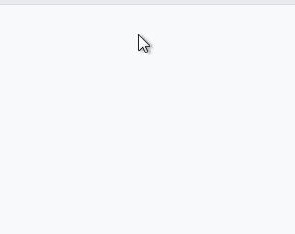cursor: (135, 31, 152, 55)
